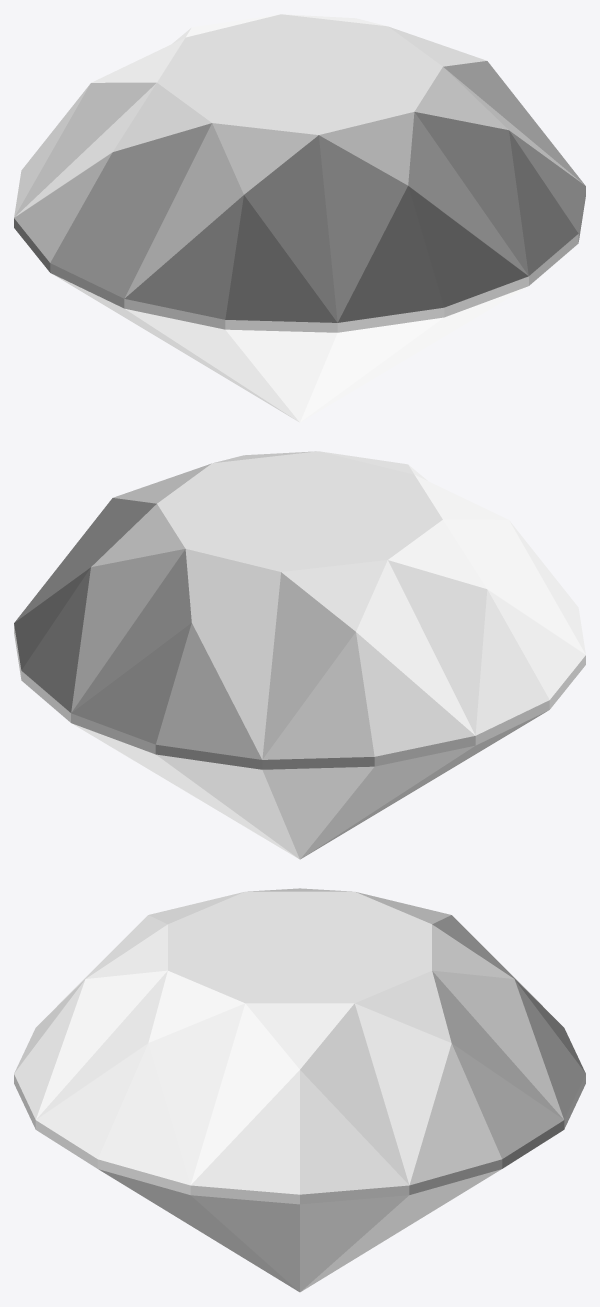
The model's file is icon.ico.obj.
The picture shows the model from 3 angles, top to bottom: view 1: azimuth 30°, elevation 25°; view 2: azimuth 150°, elevation 25°; view 3: azimuth 270°, elevation 25°; orthographic projection.
Size of the model in its own units: 3.93 by 2.61 by 3.93.
1 material, 1 textured.
